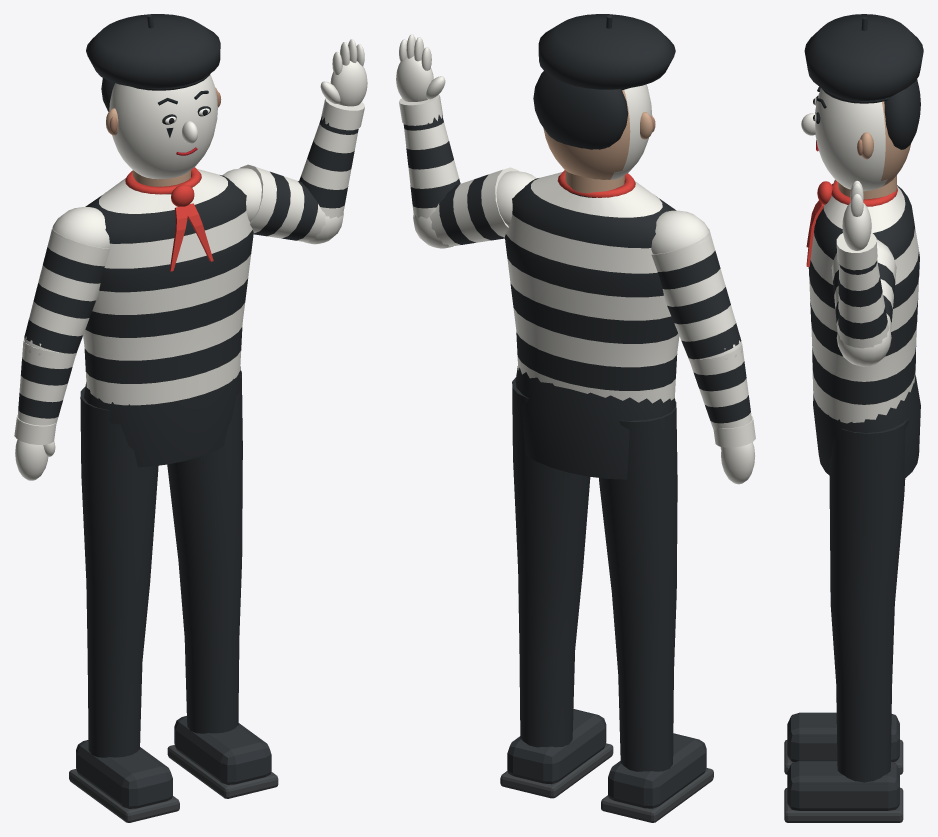
Rendered from character_mime.glb.
3 renders of one model, left to right at view 1: azimuth 30°, elevation 25°; view 2: azimuth 150°, elevation 25°; view 3: azimuth 270°, elevation 25°, orthographic. The views are drawn at different scales.
Visible parts, largest first — view 1: Mime horizontally striped shirt, Mime black trouser leg -1, Mime black trouser leg 1, Mime slouched black beret, Mime head with painted white face, Mime connected trouser hips, Mime left striped upper sleeve, Mime rounded black shoe.001, Mime rounded black shoe, Mime raised striped upper sleeve, Mime raised striped forearm, Mime left striped lower sleeve (+9 smaller); view 2: Mime horizontally striped shirt, Mime black trouser leg -1, Mime black trouser leg 1, Mime connected trouser hips, Mime slouched black beret, Mime left striped upper sleeve, Mime short black hair at back, Mime raised striped upper sleeve, Mime head with painted white face, Mime rounded black shoe.001, Mime rounded black shoe, Mime raised striped forearm (+11 smaller); view 3: Mime black trouser leg 1, Mime horizontally striped shirt, Mime slouched black beret, Mime head with painted white face, Mime rounded black shoe.001, Mime raised striped forearm, Mime connected trouser hips, Mime rounded black shoe, Mime short black hair at back, Mime grounded shoe sole.001, Mime raised striped upper sleeve, Mime raised white glove palm (+8 smaller).
Part boxes in pixels (x1,y1,x2,y2): Mime horizontally striped shirt: [83, 169, 253, 405]; Mime black trouser leg -1: [80, 386, 158, 757]; Mime black trouser leg 1: [167, 371, 242, 733]; Mime slouched black beret: [86, 14, 220, 88]; Mime head with painted white face: [109, 74, 217, 179]; Mime connected trouser hips: [84, 366, 240, 467]; Mime left striped upper sleeve: [24, 226, 109, 353]; Mime rounded black shoe.001: [174, 716, 271, 784]; Mime rounded black shoe: [76, 740, 172, 808]; Mime raised striped upper sleeve: [239, 164, 325, 242]; Mime raised striped forearm: [299, 116, 358, 218]; Mime left striped lower sleeve: [17, 339, 76, 425]; Mime horizontally striped shirt: [505, 172, 679, 403]; Mime black trouser leg -1: [599, 401, 677, 771]; Mime black trouser leg 1: [512, 377, 590, 747]; Mime connected trouser hips: [515, 366, 675, 479]; Mime slouched black beret: [538, 14, 675, 89]; Mime left striped upper sleeve: [651, 229, 741, 359]; Mime short black hair at back: [533, 71, 628, 149]; Mime raised striped upper sleeve: [429, 167, 519, 246]; Mime head with painted white face: [543, 84, 652, 179]; Mime rounded black shoe.001: [507, 709, 606, 784]; Mime rounded black shoe: [608, 733, 706, 808]; Mime raised striped forearm: [403, 115, 460, 218]; Mime black trouser leg 1: [829, 418, 908, 782]; Mime horizontally striped shirt: [808, 184, 919, 423]; Mime slouched black beret: [804, 14, 923, 100]; Mime head with painted white face: [815, 88, 911, 191]; Mime rounded black shoe.001: [787, 760, 899, 810]; Mime raised striped forearm: [838, 260, 888, 348]; Mime connected trouser hips: [813, 375, 920, 478]; Mime rounded black shoe: [787, 712, 899, 761]; Mime short black hair at back: [884, 79, 920, 149]; Mime grounded shoe sole.001: [784, 787, 903, 822]; Mime raised striped upper sleeve: [831, 247, 896, 332]; Mime raised white glove palm: [842, 202, 871, 250].
Bounding box in the file's own units: 0.8499 × 1.78 × 0.295.
